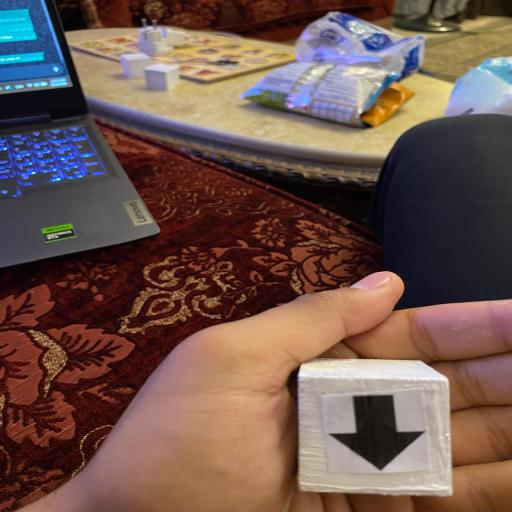Down: (295, 358, 452, 496)
